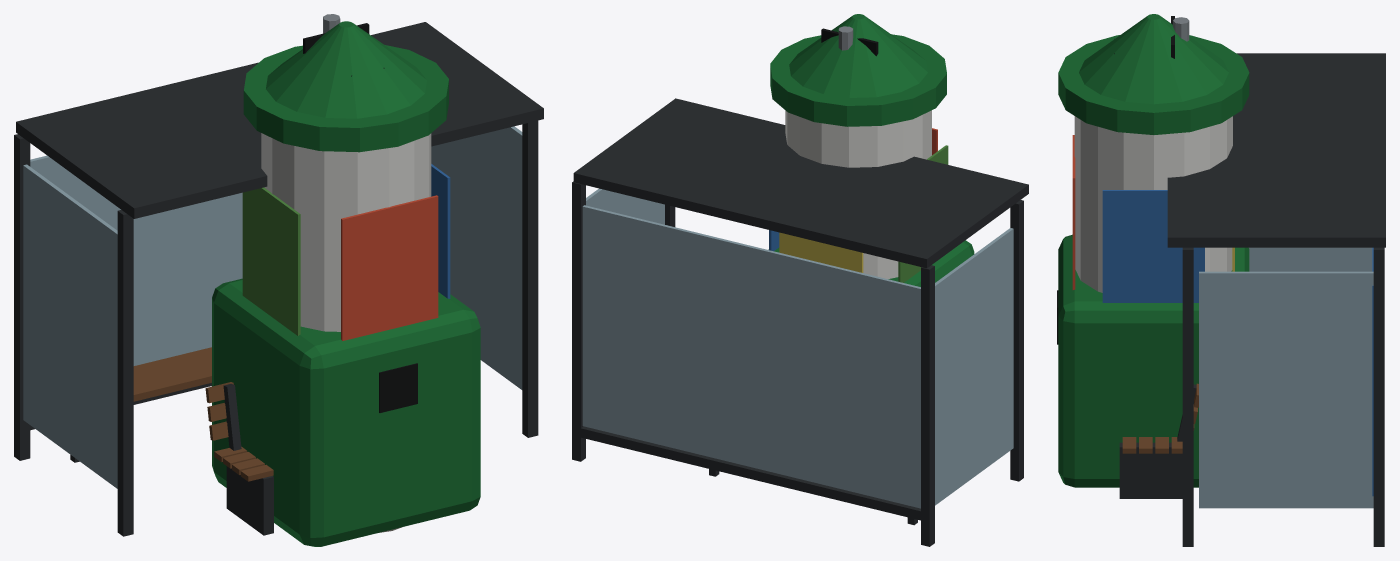
Rendered from props.glb.
3 renders of one model, left to right at view 1: azimuth 30°, elevation 25°; view 2: azimuth 150°, elevation 25°; view 3: azimuth 270°, elevation 25°, orthographic. The views are drawn at different scales.
Visible parts, largest first — view 1: bushaltestelle-dach_lod0, litfasssaeule_lod0, container_lod0, bank_lod0; view 2: bushaltestelle-dach_lod0, litfasssaeule_lod0, container_lod0, ampel_lod0; view 3: bushaltestelle-dach_lod0, litfasssaeule_lod0, container_lod0, bank_lod0, ampel_lod0.
Boxes of the visible parts, x1,y1,x2,y2 form: bushaltestelle-dach_lod0: [14, 22, 543, 536]; litfasssaeule_lod0: [242, 21, 450, 532]; container_lod0: [212, 278, 480, 546]; bank_lod0: [205, 382, 273, 535]; bushaltestelle-dach_lod0: [572, 98, 1028, 546]; litfasssaeule_lod0: [769, 14, 948, 282]; container_lod0: [768, 240, 974, 286]; ampel_lod0: [821, 26, 878, 56]; bushaltestelle-dach_lod0: [1167, 53, 1385, 546]; litfasssaeule_lod0: [1058, 14, 1249, 302]; container_lod0: [1057, 234, 1249, 487]; bank_lod0: [1119, 383, 1198, 498]; ampel_lod0: [1114, 16, 1189, 58].
Size of what is drawn, in the model's own units: 3.24 by 3.53 by 2.41.
